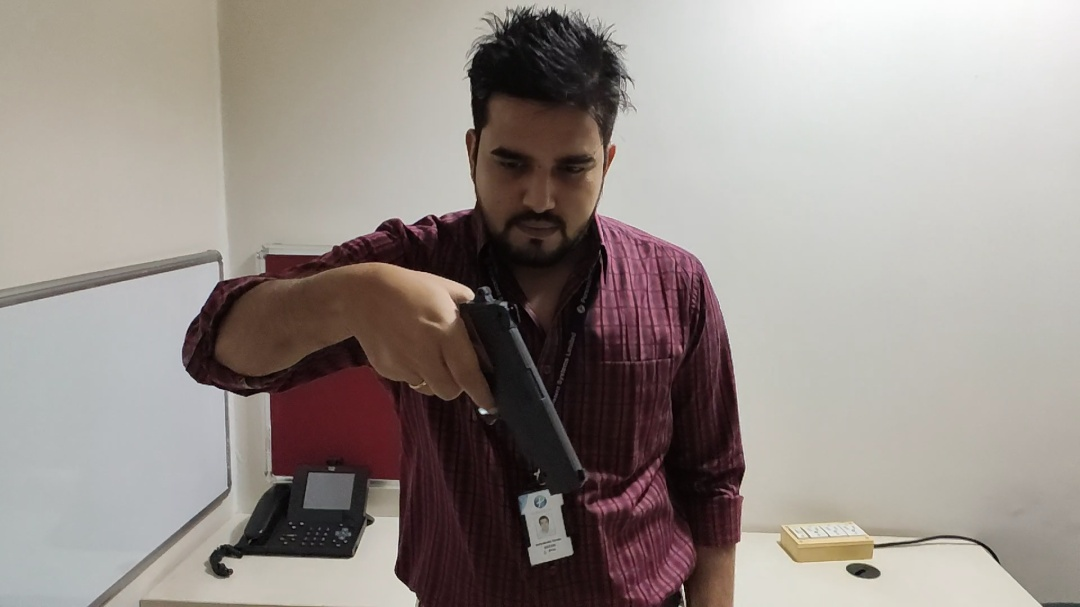gun: (279, 72, 592, 595)
